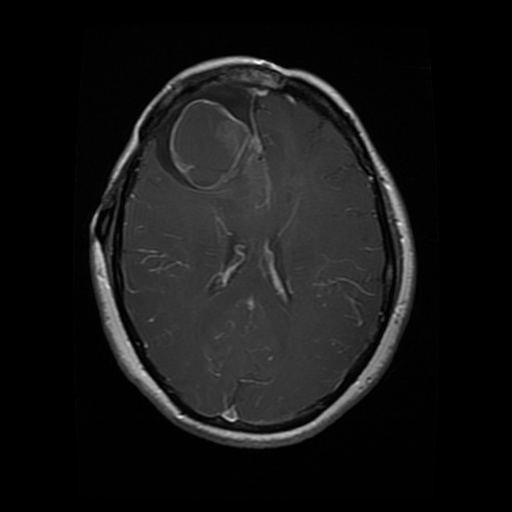glioma: (154, 83, 276, 210)
